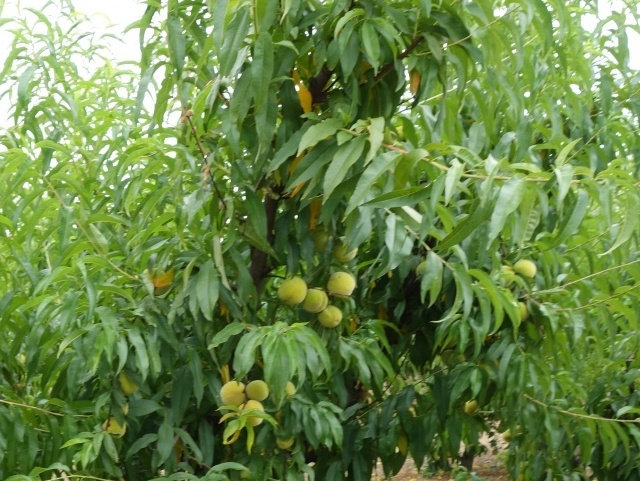peach: (273, 271, 308, 308), (323, 268, 359, 300), (111, 366, 145, 399), (216, 377, 249, 410), (299, 283, 331, 316), (329, 231, 358, 267), (303, 225, 336, 256), (98, 412, 130, 443), (241, 374, 271, 406), (240, 397, 269, 430), (316, 302, 345, 334), (511, 256, 540, 284), (457, 395, 483, 420), (271, 432, 299, 453), (497, 262, 522, 284), (512, 299, 535, 322)
